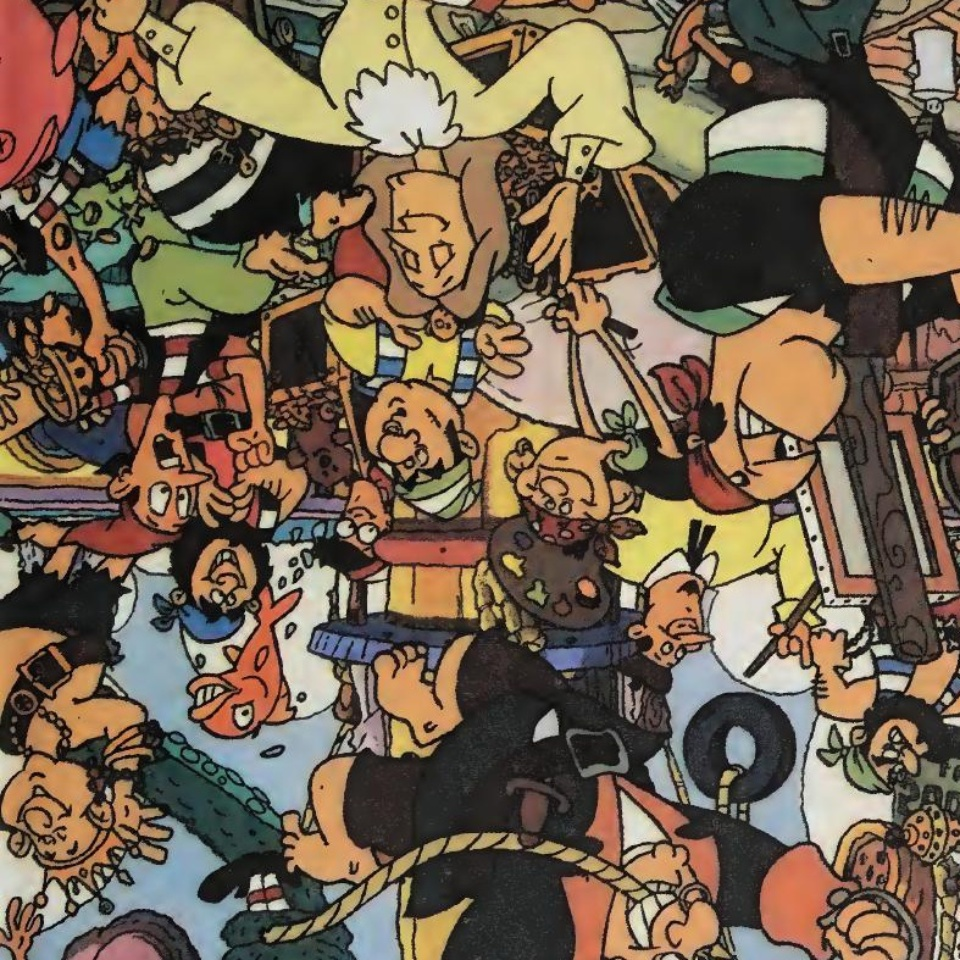waldo: (317, 484, 393, 582)
